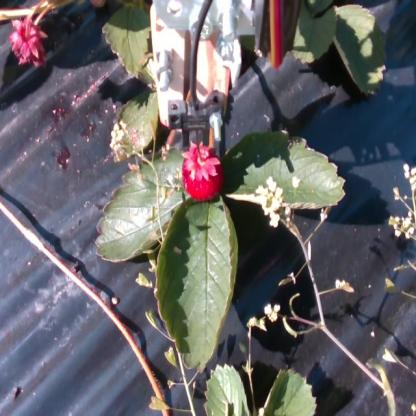ripe: (182, 148, 223, 200)
